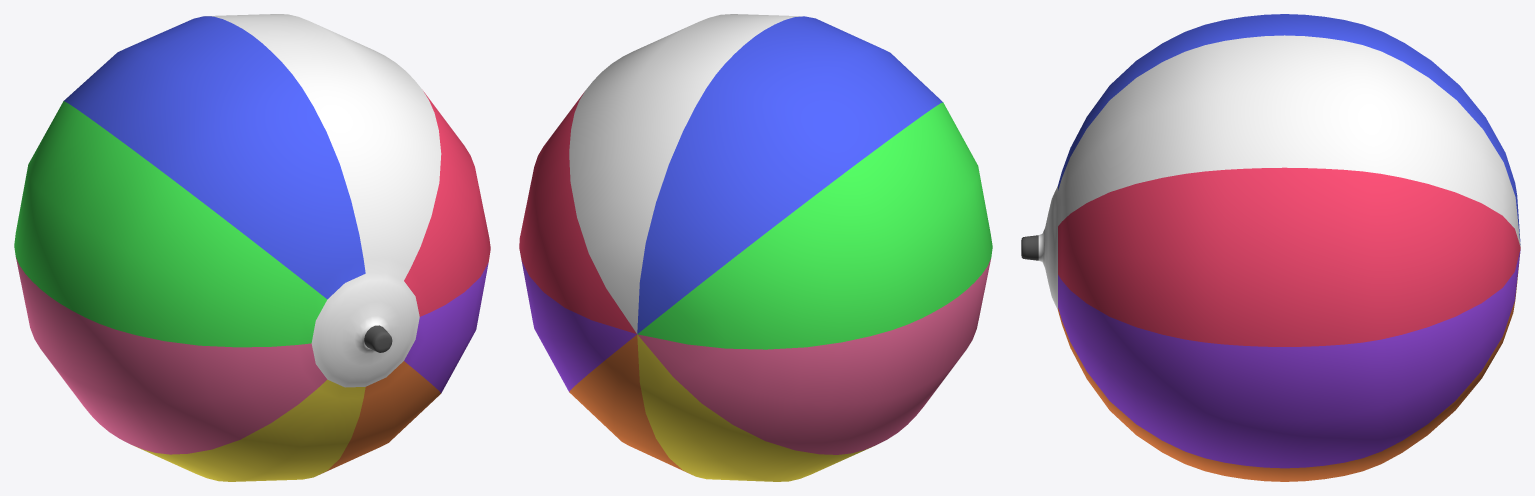
Rendered from BeachBall.fbx.
3 renders of one model, left to right at view 1: azimuth 30°, elevation 25°; view 2: azimuth 150°, elevation 25°; view 3: azimuth 270°, elevation 25°, orthographic.
Visible parts, largest first — view 1: BeachBall; view 2: BeachBall; view 3: BeachBall.
Boxes of the visible parts, <box> form: BeachBall: <box>14,14,490,481</box>; BeachBall: <box>519,14,992,481</box>; BeachBall: <box>1021,14,1520,481</box>.
Bounding box in the file's own units: 814 × 814 × 867.
Materials: 1 (1 with a texture image).
